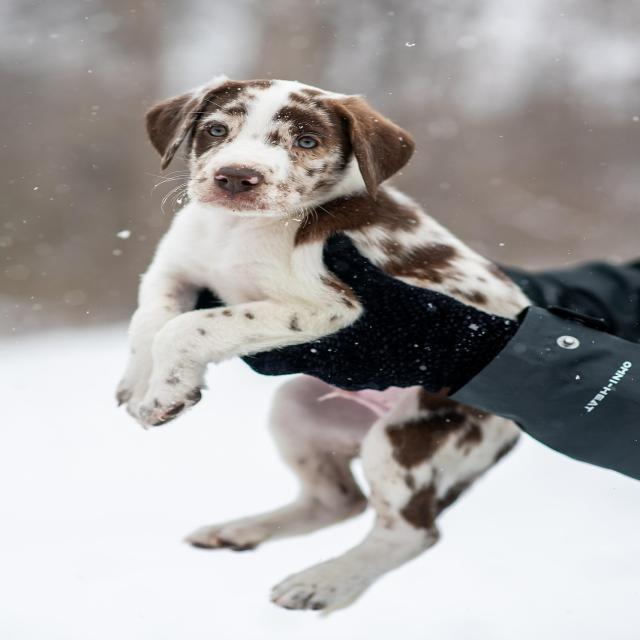dog: (114, 80, 532, 613)
